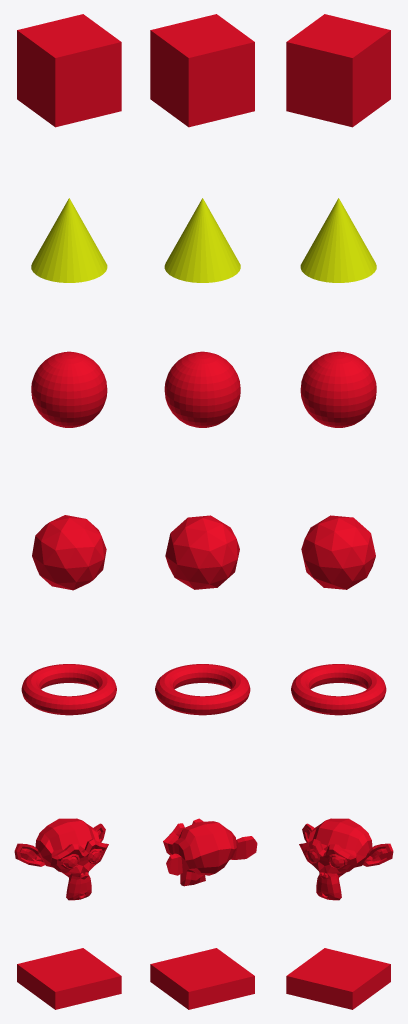
File: lockerGSAP4.glb
3 renders of one model, left to right at view 1: azimuth 30°, elevation 25°; view 2: azimuth 210°, elevation 25°; view 3: azimuth 330°, elevation 25°, orthographic.
Parts seen in each view (by area): view 1: G2, G4, G3, G5, G6, G1, G7; view 2: G2, G4, G3, G5, G6, G1, G7; view 3: G2, G4, G3, G5, G6, G1, G7.
Part boxes in pixels (box(x1,y1,x2,y2)): G2: box(17, 14, 121, 127); G4: box(31, 351, 107, 427); G3: box(17, 948, 121, 1009); G5: box(32, 515, 106, 590); G6: box(14, 818, 108, 900); G1: box(31, 198, 107, 282); G7: box(21, 664, 116, 715); G2: box(150, 14, 254, 127); G4: box(164, 351, 240, 427); G3: box(150, 948, 254, 1009); G5: box(165, 515, 239, 589); G6: box(163, 818, 257, 886); G1: box(164, 198, 240, 282); G7: box(155, 664, 250, 715); G2: box(286, 14, 390, 127); G4: box(300, 351, 376, 427); G3: box(286, 948, 390, 1009); G5: box(301, 515, 375, 589); G6: box(299, 818, 393, 900); G1: box(300, 198, 376, 282); G7: box(291, 664, 386, 715).
Bounding box in the file's own units: 2.73 × 27.48 × 2.5.
